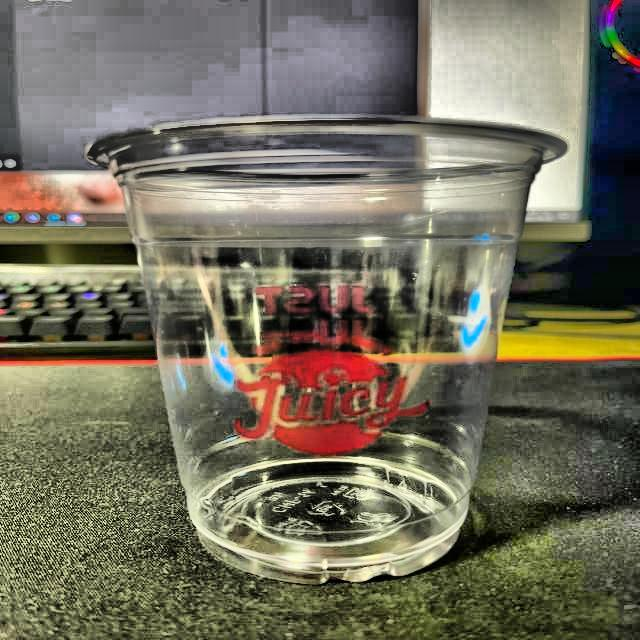plastic cup: (87, 114, 572, 588)
